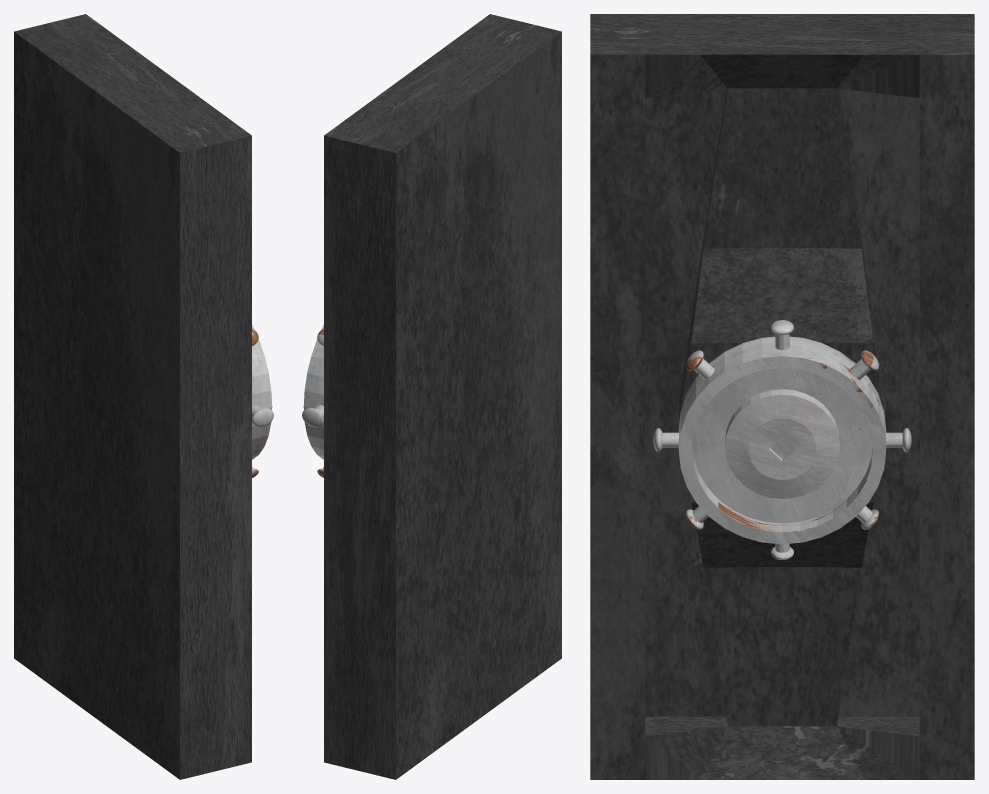
File: Steeldoor(2).glb
3 views of the same model, side by side, from view 1: azimuth 30°, elevation 25°; view 2: azimuth 150°, elevation 25°; view 3: azimuth 270°, elevation 25° (orthographic). The views are drawn at different scales.
Visible parts, largest first — view 1: Door, Wheel; view 2: Door, Wheel; view 3: Door, Wheel.
Part boxes in pixels (x1=…): Door: x1=14, y1=14, x2=251, y2=779; Wheel: x1=252, y1=324, x2=273, y2=477; Door: x1=324, y1=14, x2=561, y2=779; Wheel: x1=302, y1=324, x2=323, y2=477; Door: x1=590, y1=14, x2=974, y2=779; Wheel: x1=653, y1=320, x2=911, y2=559.
Bounding box in the file's own units: 1.09 × 5 × 2.4.
2 materials, 2 textured.
